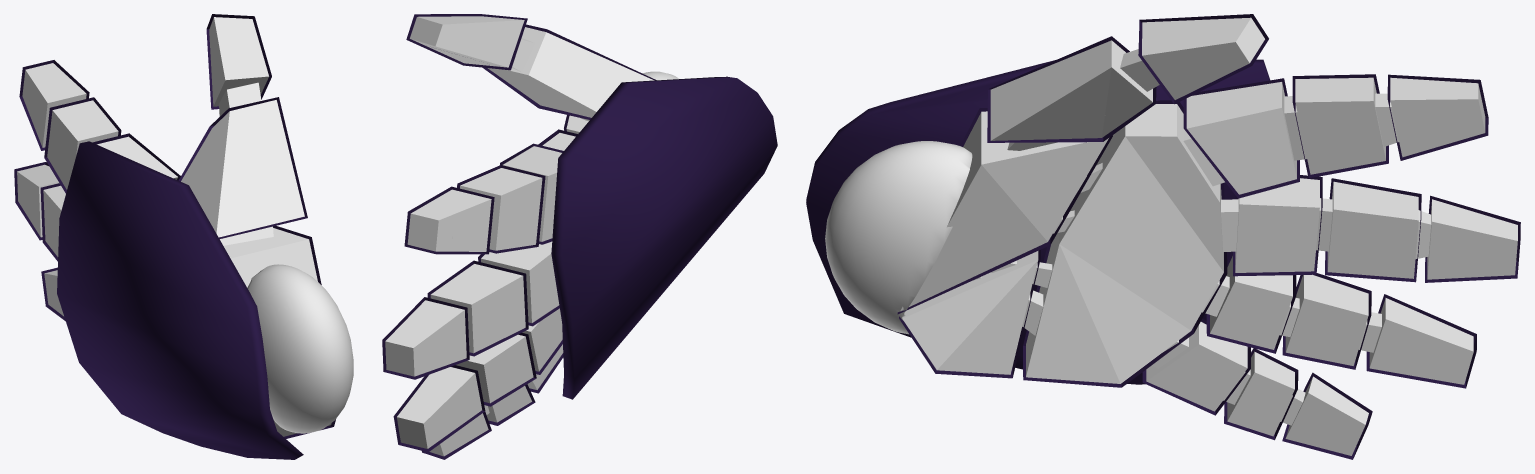
Rendered from hand-L.fbx.
3 renders of one model, left to right at view 1: azimuth 30°, elevation 25°; view 2: azimuth 150°, elevation 25°; view 3: azimuth 270°, elevation 25°, orthographic. The views are drawn at different scales.
Visible parts, largest first — view 1: shield, hand, universe, Cube; view 2: hand, shield, Cube; view 3: hand, universe, shield, Cube.
Part boxes in pixels (x1,y1,x2,y2): shield: [57, 141, 303, 459]; hand: [14, 14, 335, 438]; universe: [247, 264, 353, 433]; Cube: [29, 82, 273, 245]; hand: [382, 14, 656, 459]; shield: [551, 76, 777, 399]; Cube: [452, 38, 589, 414]; hand: [897, 14, 1520, 459]; universe: [825, 141, 972, 334]; shield: [806, 59, 1269, 384]; Cube: [972, 49, 1431, 425].
Bounding box in the file's own units: 7.94 × 16.54 × 23.35.
